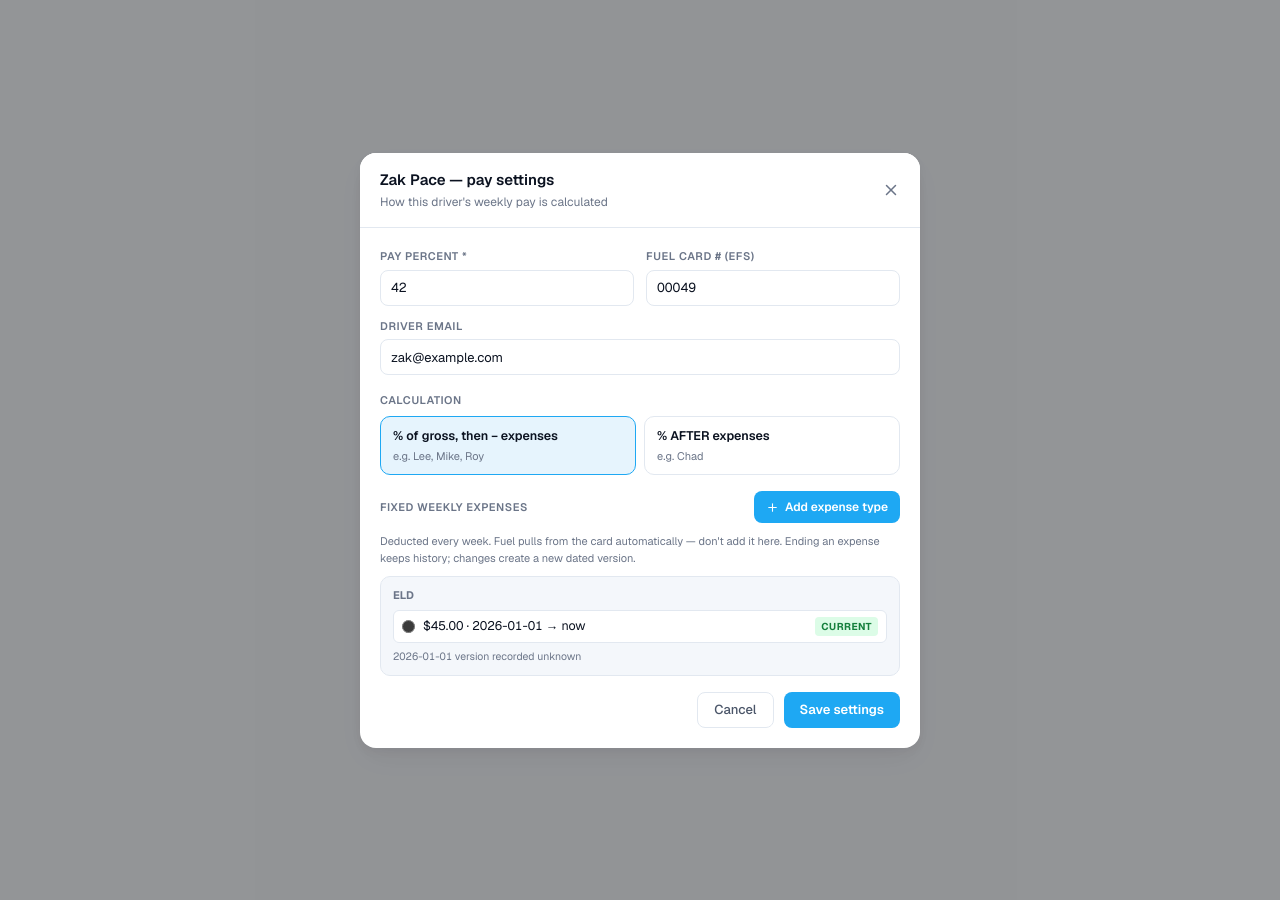
Scenario: DriverPaySettingsModal fixed-expense wiring › disables Save and explains why while a fixed-expense draft is open
Click the button "Add expense type" at (827, 507), box [754, 491, 900, 523]
(page scrolled)
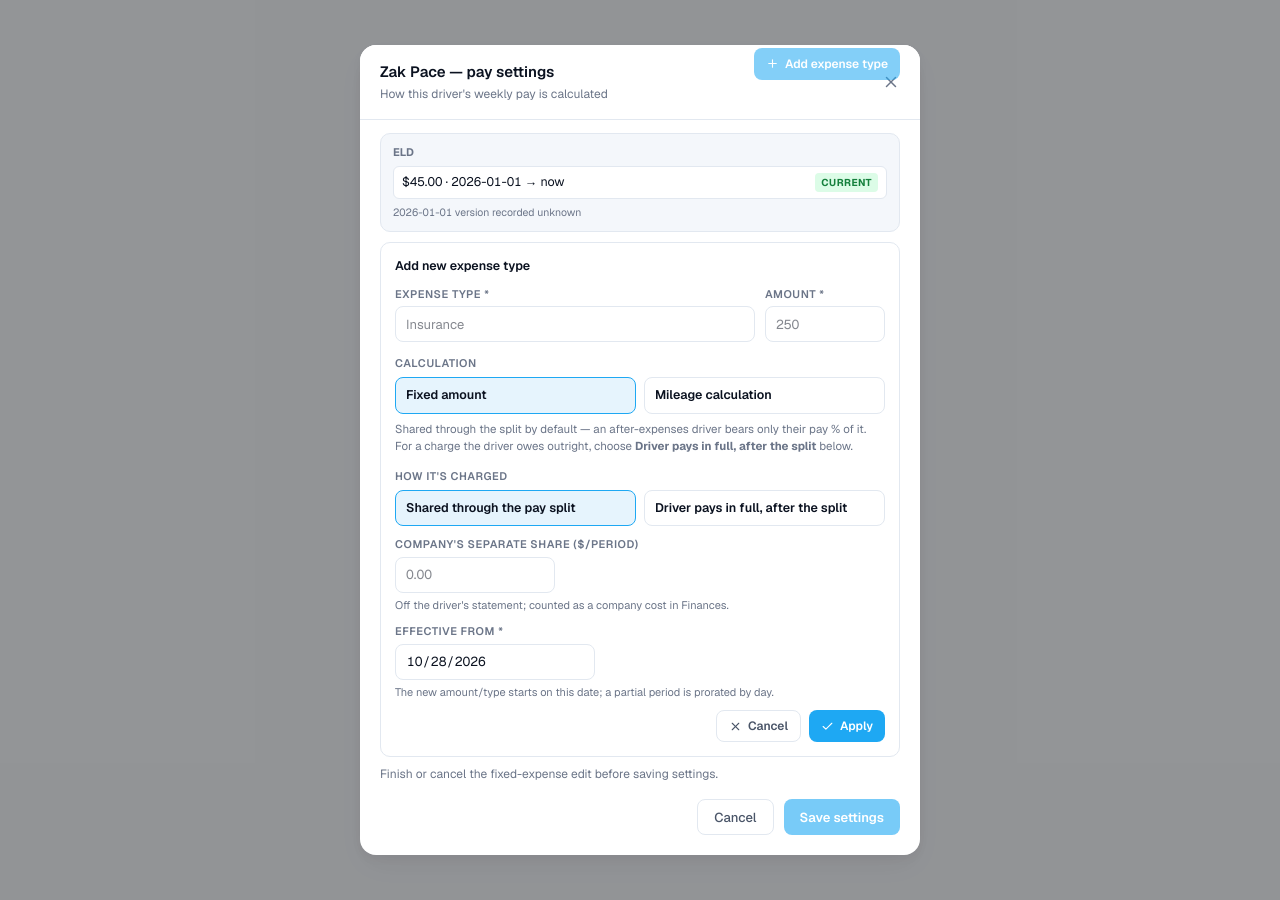
Now the button "Save settings" is disabled, box [784, 799, 900, 835]
Now the text "Finish or cancel the fixed-expense edit before saving" is shown, box [380, 766, 718, 782]
